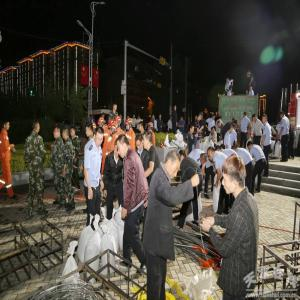none: (222, 155, 247, 197), (164, 150, 182, 180), (118, 134, 129, 160), (95, 128, 106, 149), (144, 132, 154, 151), (136, 134, 145, 152), (86, 124, 95, 138), (63, 127, 71, 142), (33, 120, 41, 134), (208, 148, 216, 162), (114, 141, 120, 159), (3, 120, 11, 133), (54, 126, 61, 140), (201, 153, 208, 167), (70, 128, 77, 138), (216, 146, 223, 155), (247, 141, 254, 150), (139, 123, 145, 133), (190, 123, 195, 135), (252, 113, 258, 123), (263, 114, 268, 125), (198, 113, 204, 122), (280, 111, 286, 120), (113, 102, 118, 112), (233, 123, 238, 132), (228, 126, 233, 134), (232, 146, 237, 154), (212, 127, 216, 136), (218, 120, 222, 129), (102, 113, 106, 120), (159, 114, 163, 121), (174, 105, 178, 112), (181, 116, 185, 123), (213, 114, 217, 121), (244, 111, 248, 118), (230, 86, 234, 93), (195, 115, 199, 121), (226, 78, 230, 84), (250, 86, 254, 92), (152, 114, 156, 119), (138, 115, 141, 120), (134, 114, 136, 119)
red: (108, 120, 118, 137), (98, 120, 106, 129), (127, 118, 133, 130)
